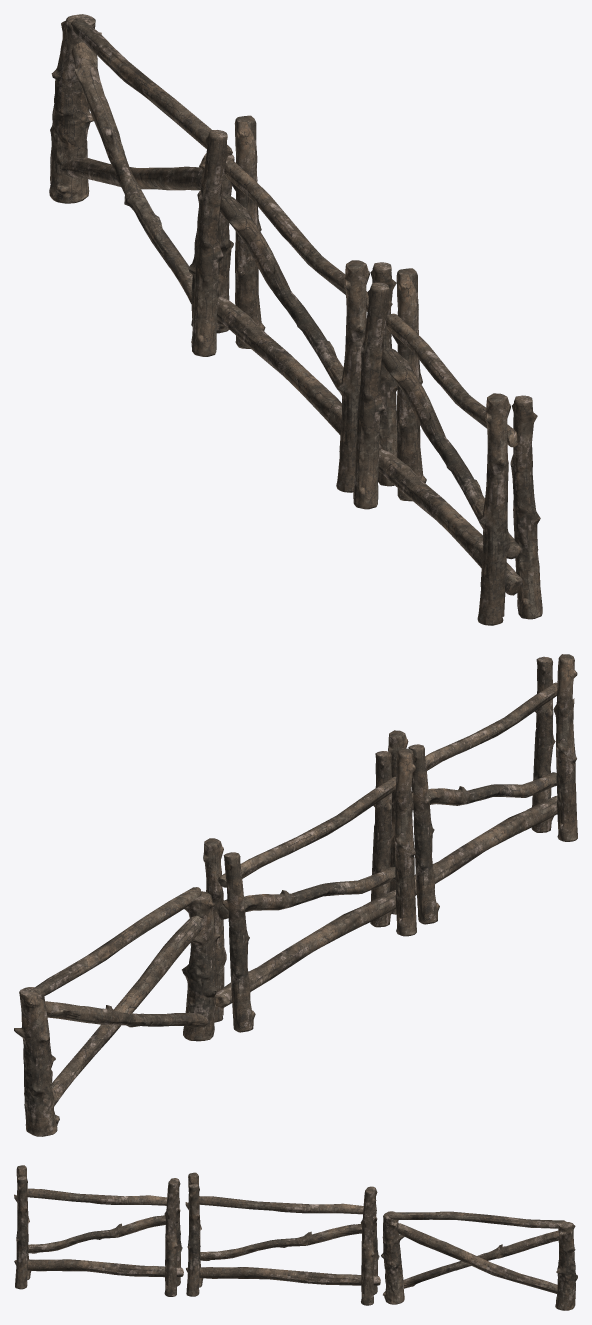
File: SM_Fence_01b_Splines_6.fbx
3 views of the same model, one above another, from view 1: azimuth 30°, elevation 25°; view 2: azimuth 150°, elevation 25°; view 3: azimuth 270°, elevation 25° (orthographic). The views are drawn at different scales.
Parts seen in each view (by area): view 1: SM_Fence_01b_Splines_0_LOD0; view 2: SM_Fence_01b_Splines_0_LOD0; view 3: SM_Fence_01b_Splines_0_LOD0.
Boxes of the visible parts, left/top/right/bottom form: SM_Fence_01b_Splines_0_LOD0: left=49, top=14, right=542, bottom=625; SM_Fence_01b_Splines_0_LOD0: left=14, top=654, right=577, bottom=1136; SM_Fence_01b_Splines_0_LOD0: left=14, top=1165, right=577, bottom=1310.
Size of the model in its own units: 103 by 632 by 140.
